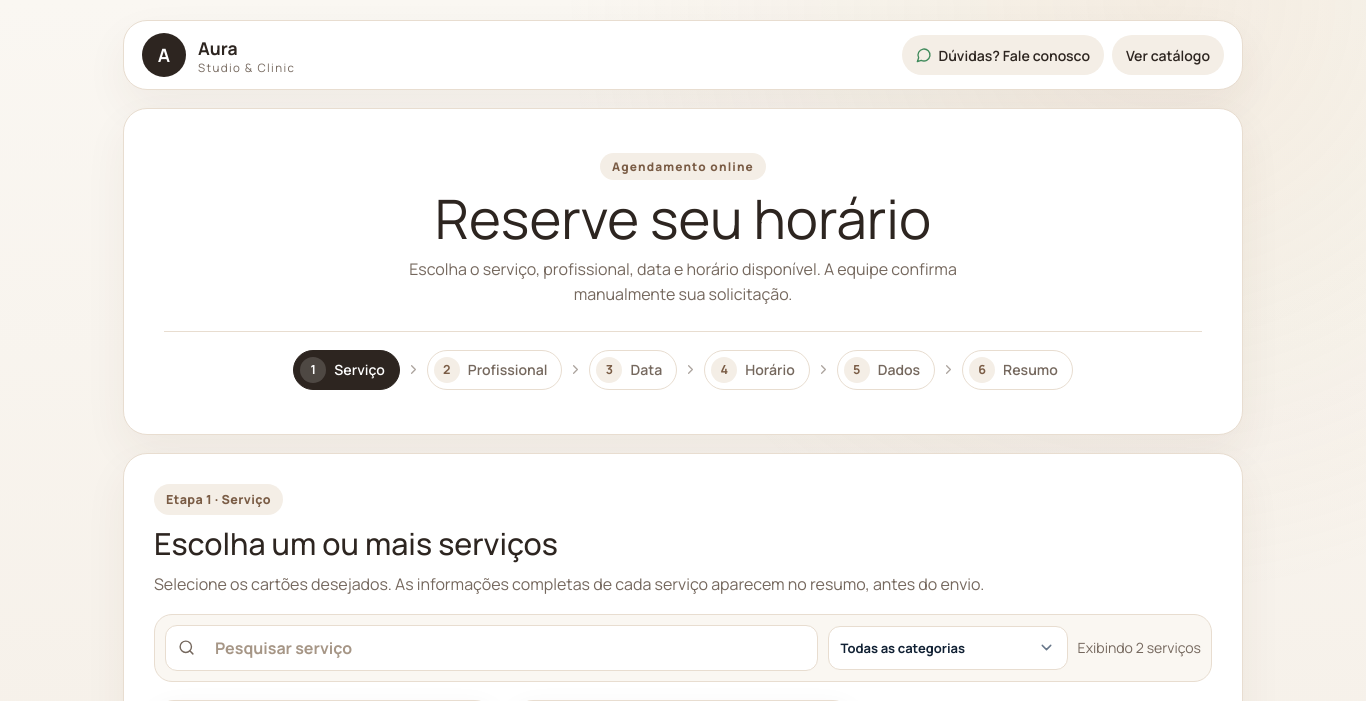
Test: PublicBooking · apresentação dos serviços › filtra serviços pela busca e pela contagem exibida
Type "anodiza" into the search field labelled "Pesquisar serviço".
click(504, 648); type("anodiza")  # box [203,626,805,670]
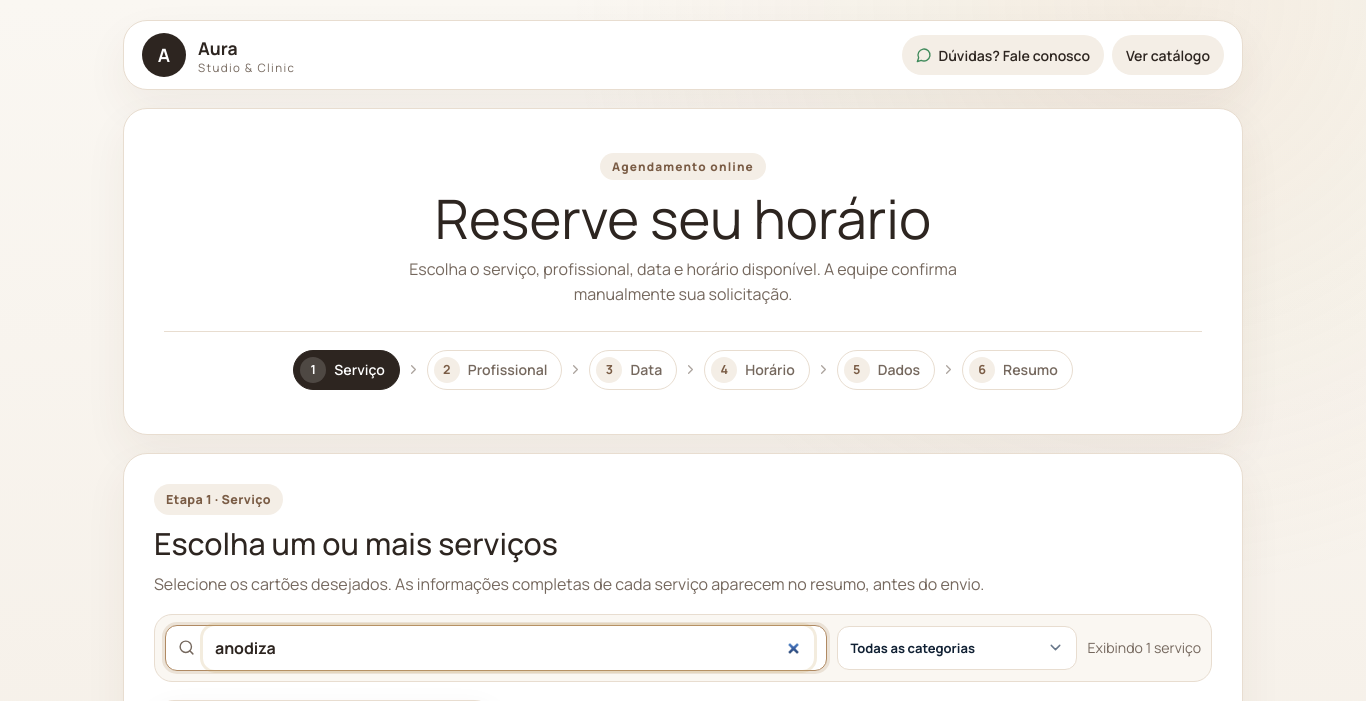
Expected: the text "Exibindo 1 serviço" is shown, [1088,638,1201,657]
